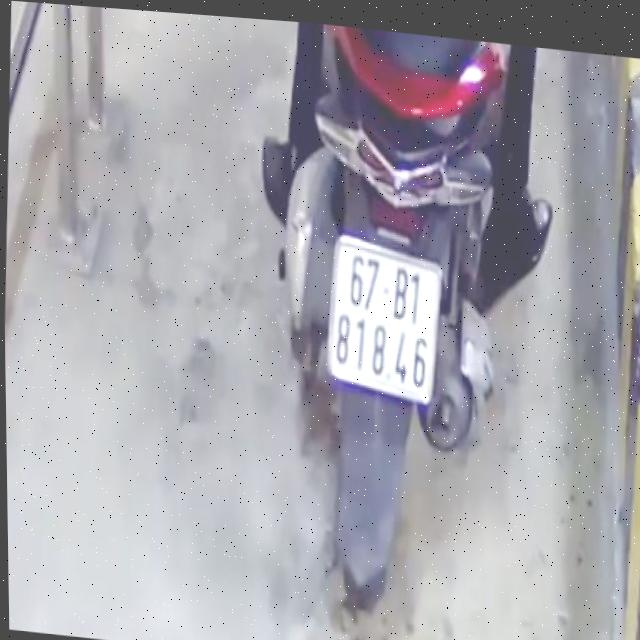motorcycle: (262, 19, 517, 640)
plate: (323, 230, 452, 408)
